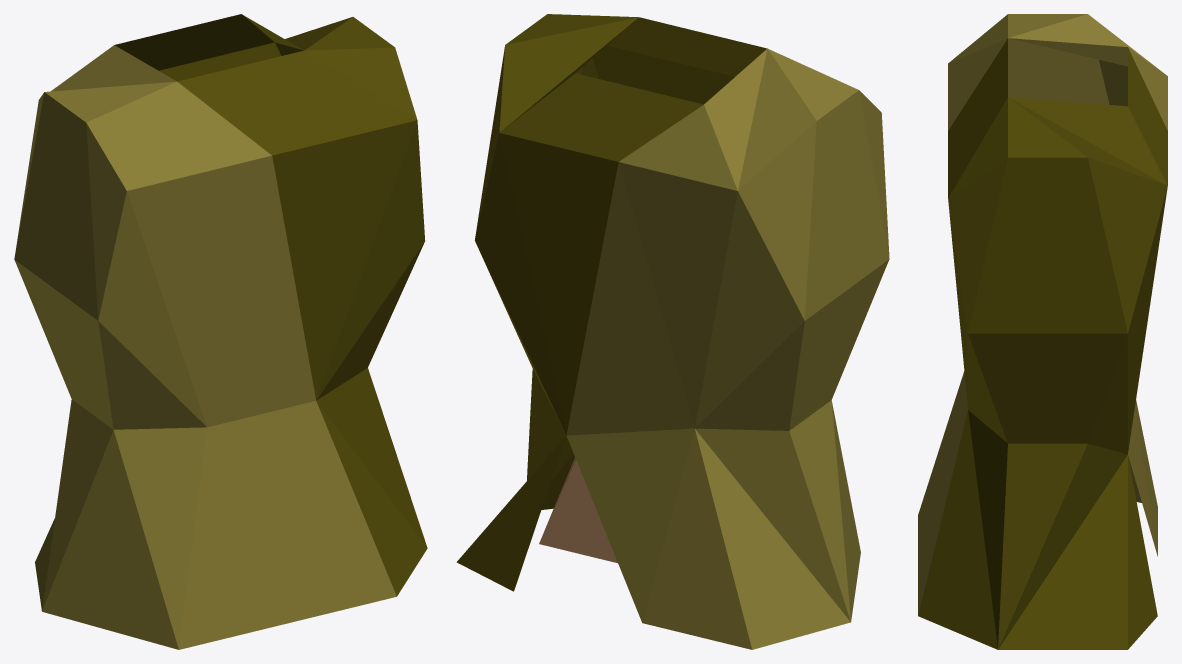
Rendered from player_male_chest_25_0.obj.
3 views of the same model, side by side, from view 1: azimuth 30°, elevation 25°; view 2: azimuth 150°, elevation 25°; view 3: azimuth 270°, elevation 25° (orthographic). The views are drawn at different scales.
Bounding box in the file's own units: 0.3047 × 0.4297 × 0.1953.
